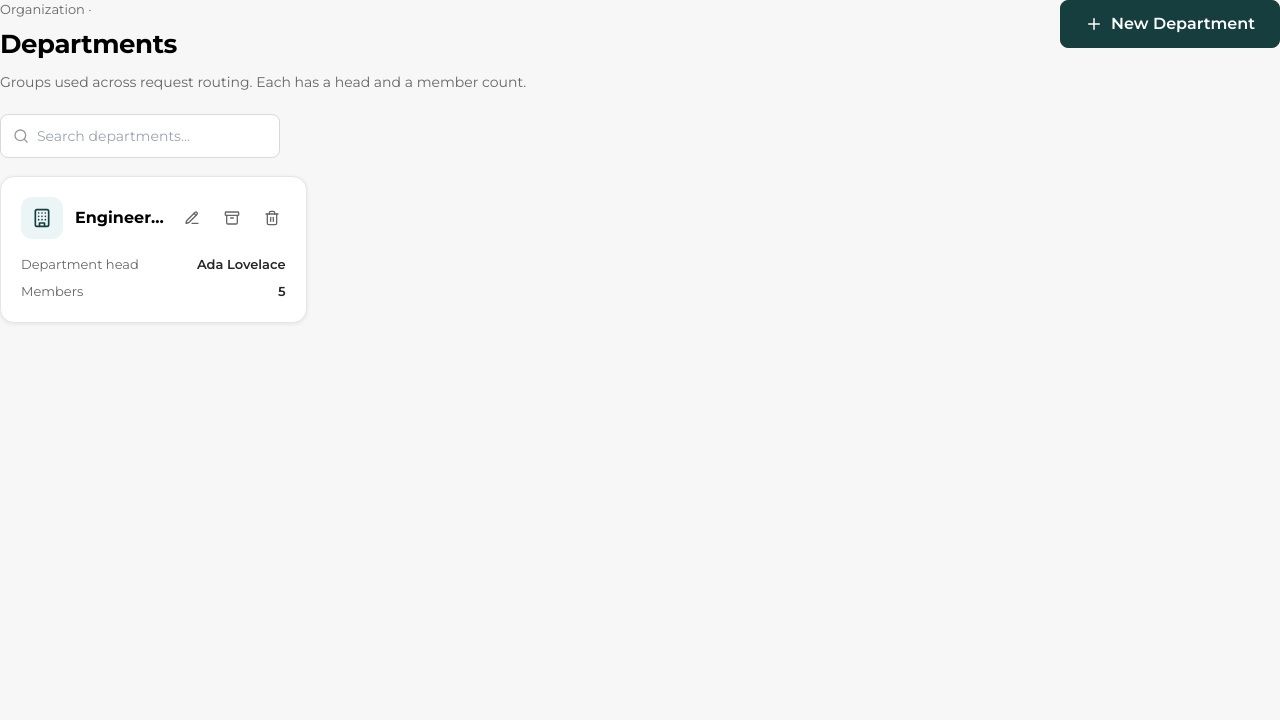
Test case: deleting a department in use surfaces the reason and keeps the dialog open
Expected: the text "Engineering" is shown, left=75, top=206, right=166, bottom=230
Click the button named "Delete Engineering" at [272, 218], box left=258, top=204, right=286, bottom=232
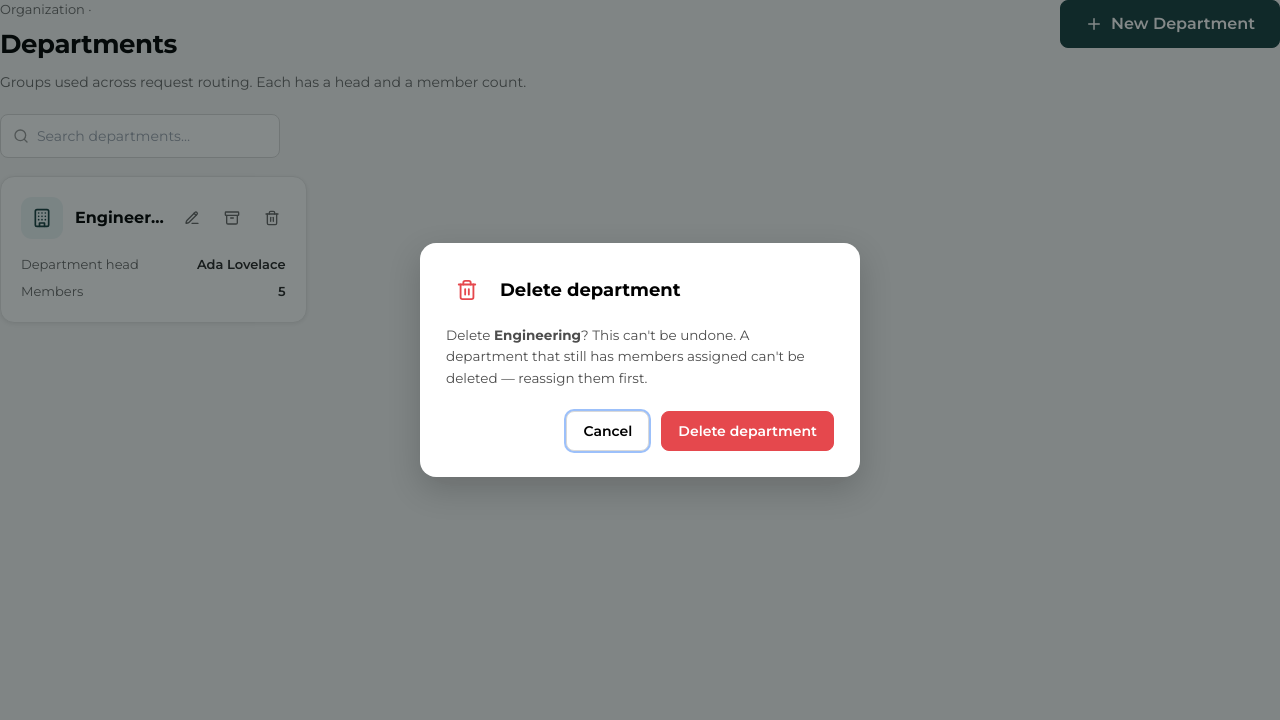
Click the button "Delete department" at [748, 431], box left=661, top=411, right=834, bottom=451
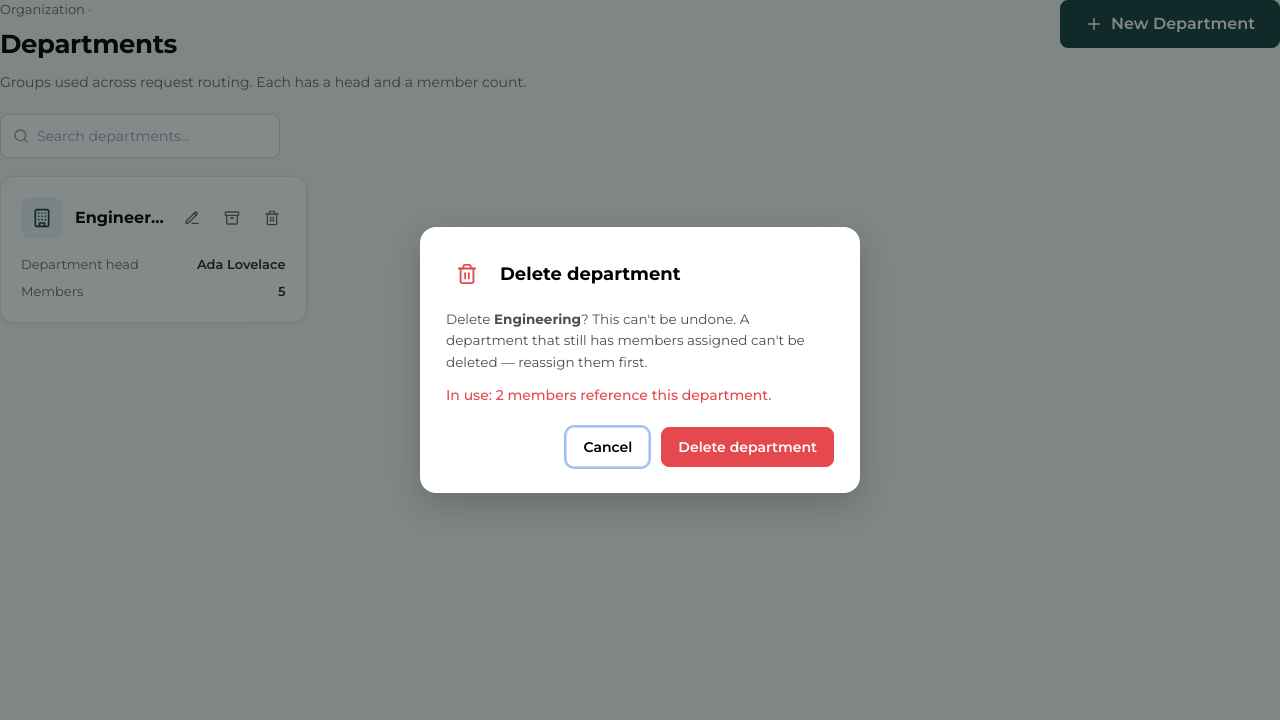
Expected: the dialog is shown, left=420, top=227, right=860, bottom=493
Expected: the text "In use: 2 members reference this department." is shown, left=446, top=386, right=771, bottom=404
